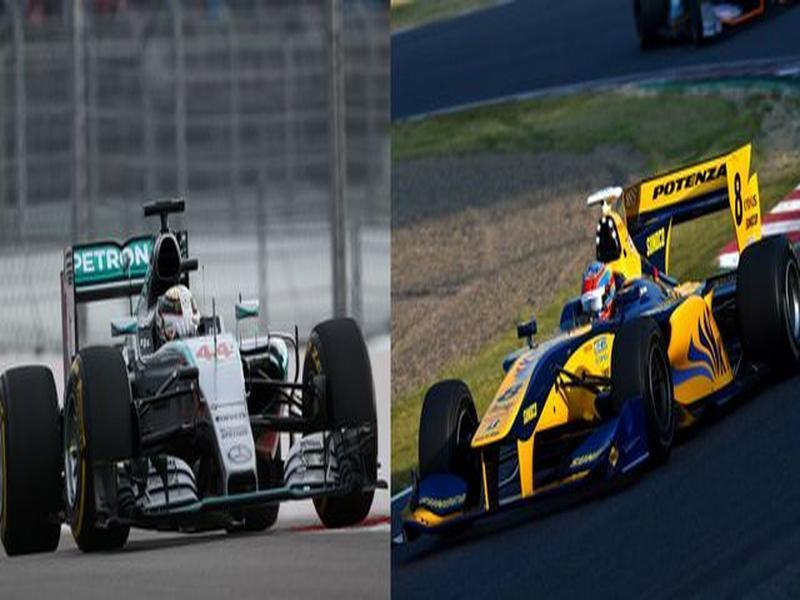f1: (394, 158, 800, 552), (14, 223, 386, 554)
